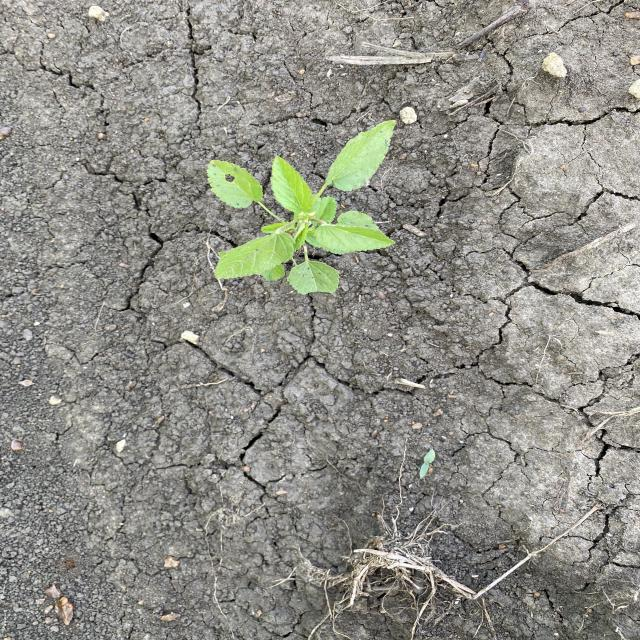PricklySida: (204, 118, 400, 298)
